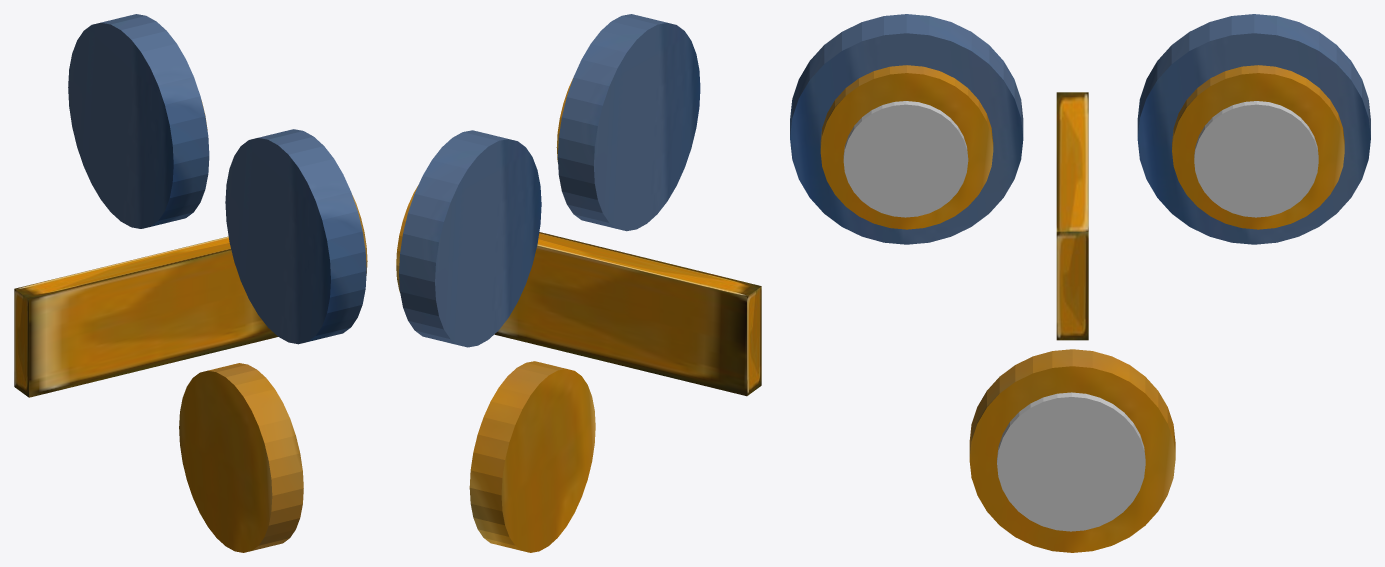
File: Surprice face symbol.fbx
3 views of the same model, side by side, from view 1: azimuth 30°, elevation 25°; view 2: azimuth 150°, elevation 25°; view 3: azimuth 270°, elevation 25° (orthographic). The views are drawn at different scales.
Parts seen in each view (by area): view 1: Cube.000; view 2: Cube.000; view 3: Cube.000.
Boxes of the visible parts, x1,y1,x2,y2 form: Cube.000: (14,14,367,552); Cube.000: (396,14,761,552); Cube.000: (790,14,1370,552).
Size of the model in its own units: 24.67 by 42.08 by 43.45.
